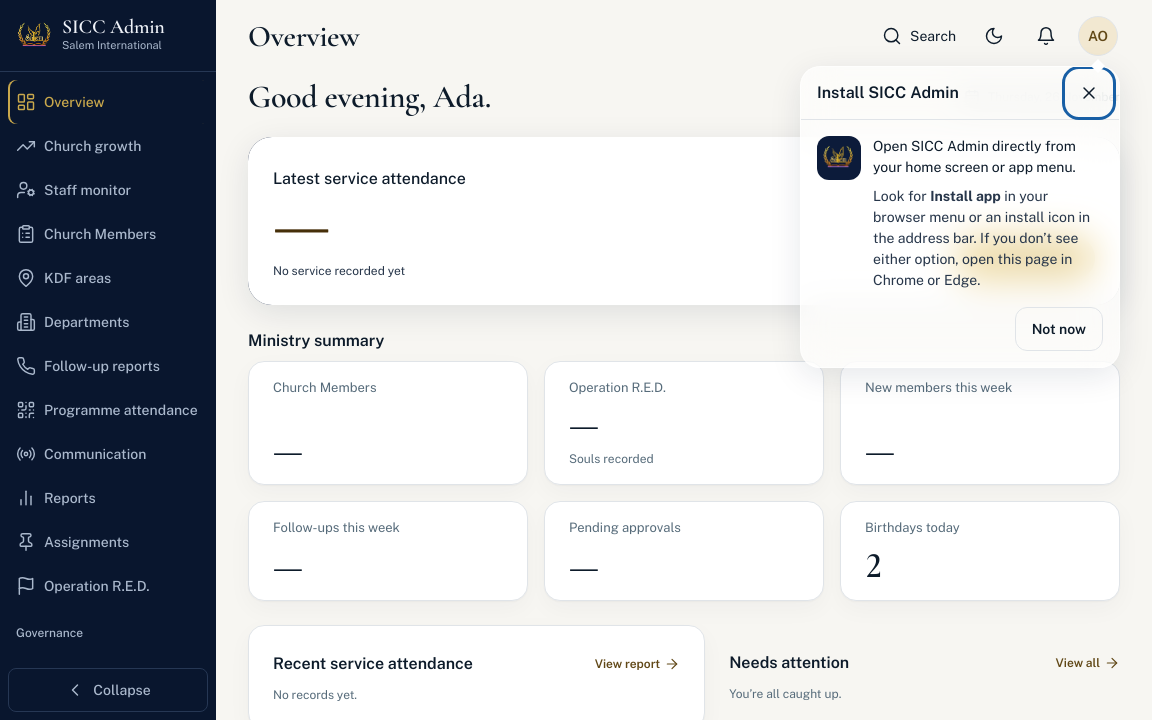
Test case: today’s birthdays › opens the matching names-only list from the bishop birthday card with ["Amina Example","Tomi Example"]
The width and height of the screenshot is (1152, 720).
Expected: the text "2" is shown, top-left (865, 544), bottom-right (882, 587)
Click the link "Birthdays today 2": (912, 527) top-left (840, 501), bottom-right (1120, 601)
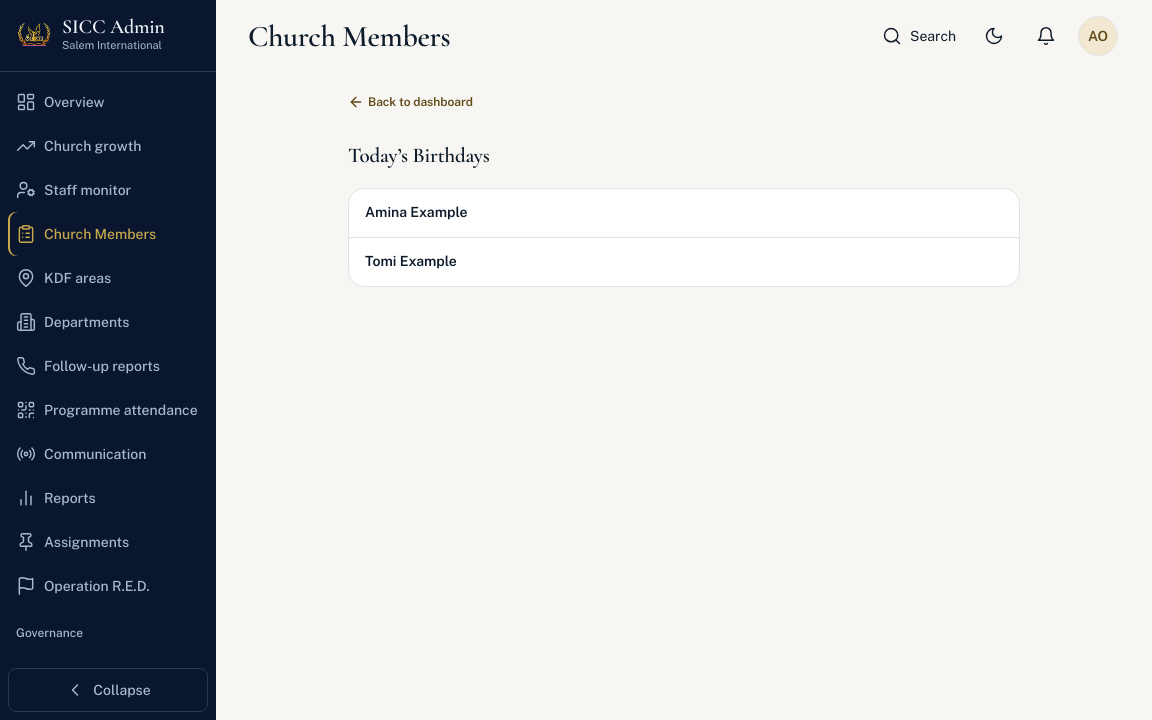
Result: the heading "Today’s Birthdays" is shown at top-left (348, 143), bottom-right (490, 168)
Result: the list items read "Amina Example", "Tomi Example", in this order at top-left (365, 204), bottom-right (468, 220); top-left (349, 236), bottom-right (1019, 286)
